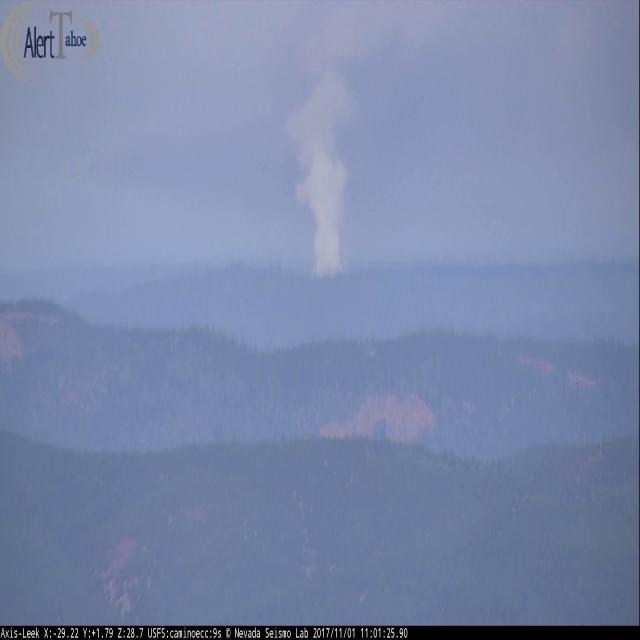smoke: (286, 74, 358, 278)
